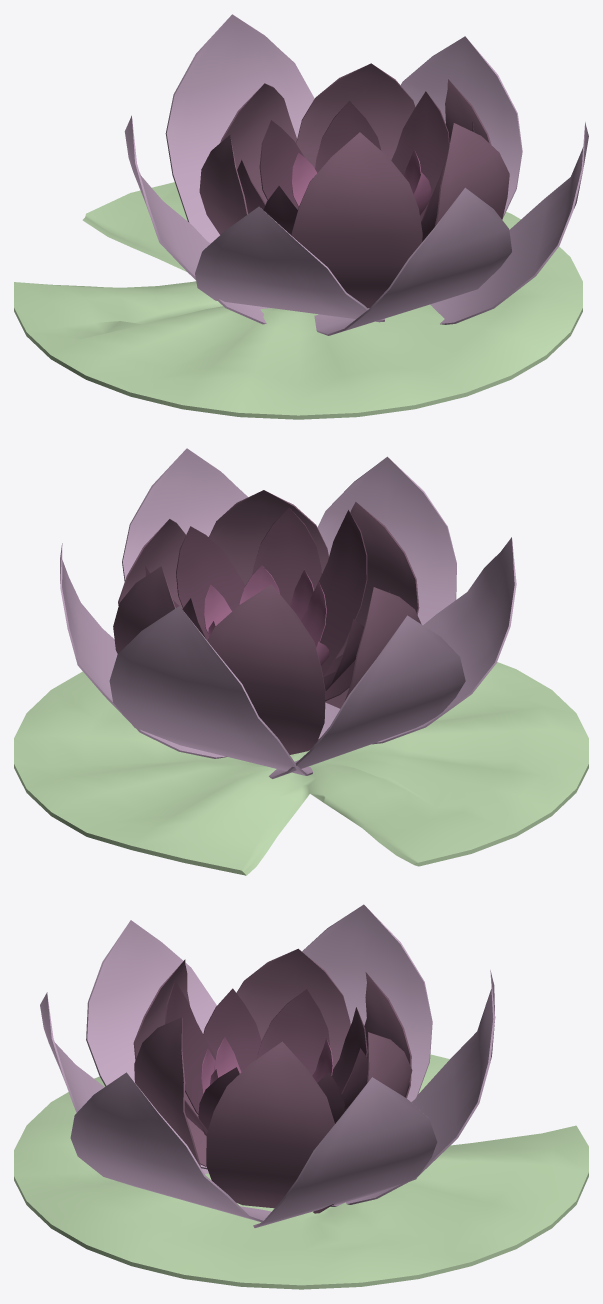
File: lily_pad_with_flower.fbx
3 renders of one model, top to bottom at view 1: azimuth 30°, elevation 25°; view 2: azimuth 150°, elevation 25°; view 3: azimuth 270°, elevation 25°, orthographic.
Visible parts, largest first — view 1: pCylinder1, pPlane10, pPlane2, pPlane6, pPlane7, pPlane4, pPlane5, pPlane13, pPlane11, pPlane3, pPlane9, pPlane17 (+8 smaller); view 2: pCylinder1, pPlane2, pPlane9, pPlane3, pPlane7, pPlane6, pPlane5, pPlane15, pPlane11, pPlane4, pPlane10, pPlane29 (+10 smaller); view 3: pCylinder1, pPlane8, pPlane4, pPlane5, pPlane6, pPlane3, pPlane2, pPlane12, pPlane11, pPlane30, pPlane14, pPlane15 (+9 smaller).
Part boxes in pixels (x1,y1,x2,y2): pCylinder1: (14, 182, 582, 419); pPlane10: (291, 132, 422, 308); pPlane2: (165, 14, 314, 243); pPlane6: (195, 206, 384, 322); pPlane7: (314, 187, 511, 335); pPlane4: (400, 36, 522, 219); pPlane5: (430, 122, 588, 324); pPlane13: (296, 63, 415, 168); pPlane11: (434, 123, 509, 227); pPlane3: (124, 115, 271, 324); pPlane9: (220, 83, 296, 203); pPlane17: (391, 91, 449, 221); pCylinder1: (14, 662, 588, 875); pPlane2: (109, 606, 312, 775); pPlane9: (207, 584, 325, 754); pPlane3: (269, 615, 465, 778); pPlane7: (317, 456, 456, 624); pPlane6: (318, 537, 516, 744); pPlane5: (122, 448, 247, 581); pPlane15: (319, 510, 367, 675); pPlane11: (209, 490, 328, 585); pPlane4: (60, 543, 226, 758); pPlane10: (325, 502, 419, 708); pPlane29: (176, 526, 245, 628); pCylinder1: (14, 1054, 588, 1289); pPlane8: (206, 1041, 334, 1208); pPlane4: (253, 1077, 437, 1227); pPlane5: (70, 1072, 271, 1222); pPlane6: (86, 920, 216, 1169); pPlane3: (302, 904, 432, 1101); pPlane2: (330, 970, 495, 1206); pPlane12: (236, 948, 350, 1069); pPlane11: (134, 1017, 201, 1167); pPlane30: (256, 989, 330, 1075); pPlane14: (203, 988, 261, 1071); pPlane15: (165, 980, 215, 1114).
Size of the model in its own units: 69.12 by 29.87 by 68.74.
